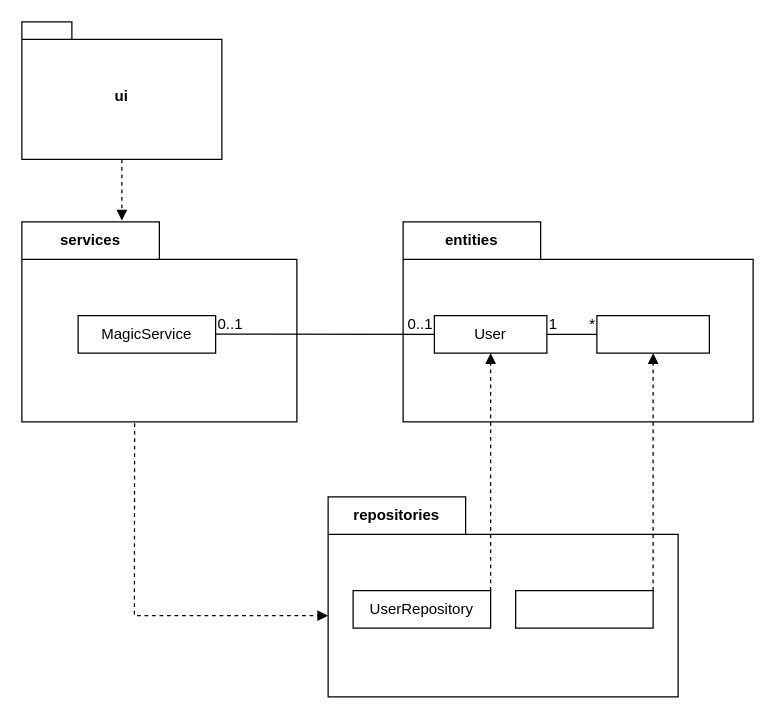
Some shapes in this 775 by 719 pixel diagram are drawn without their labels. The shapes that lost their labels are listed below. From the top down, each one's centre as x and y in pixels, then its label:
At [652,333]: "Card".
At [583,608]: "CardRepository".
